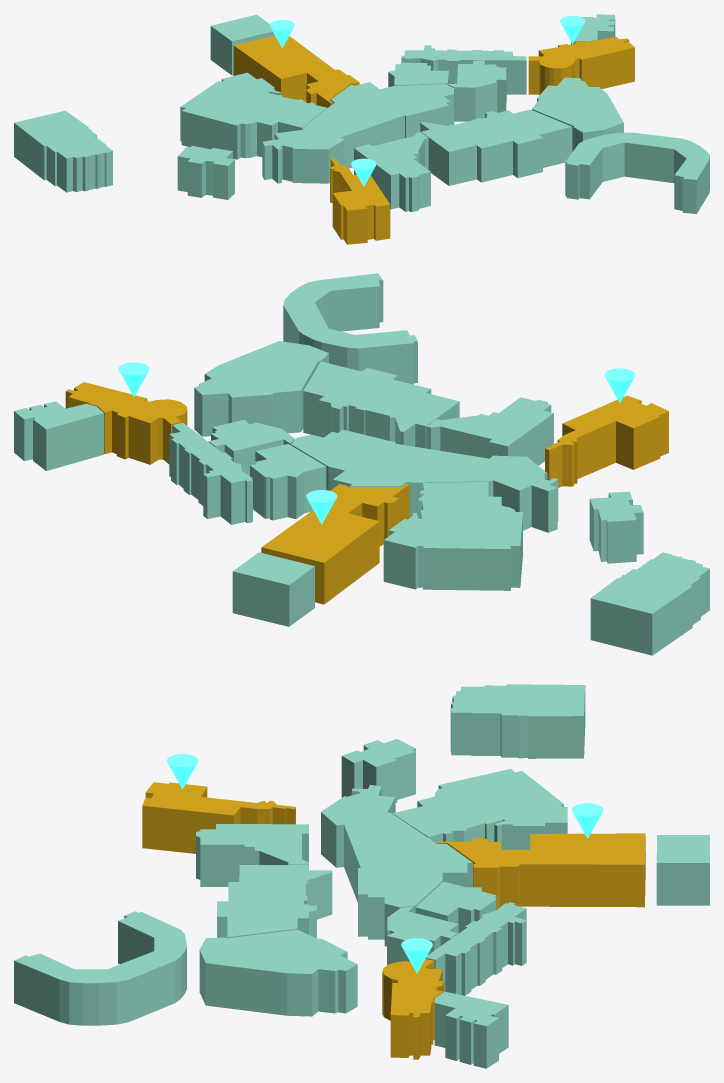
The model's file is sheridan.gltf.
3 views of the same model, one above another, from view 1: azimuth 30°, elevation 25°; view 2: azimuth 150°, elevation 25°; view 3: azimuth 270°, elevation 25° (orthographic). The views are drawn at different scales.
Visible parts, largest first — view 1: b-wing, c-wing, residence, animation-centre, athletics-centre, aa-wing, levy-centre, e-wing, g-wing, s-wing, student-centre, daycare-centre (+7 smaller); view 2: animation-centre, b-wing, residence, aa-wing, c-wing, athletics-centre, s-wing, g-wing, e-wing, levy-centre, h-wing, k-wing (+7 smaller); view 3: b-wing, residence, aa-wing, s-wing, athletics-centre, animation-centre, c-wing, g-wing, h-wing, e-wing, levy-centre, k-wing (+7 smaller).
Boxes of the visible parts, box(x1,y1,x2,y2) form: b-wing: box(262, 82, 454, 183); c-wing: box(420, 109, 572, 185); residence: box(565, 132, 709, 213); animation-centre: box(180, 72, 326, 159); athletics-centre: box(14, 110, 112, 192); aa-wing: box(233, 35, 359, 107); levy-centre: box(528, 36, 634, 95); e-wing: box(354, 132, 430, 211); g-wing: box(330, 158, 390, 244); s-wing: box(532, 77, 623, 151); student-centre: box(447, 60, 506, 121); daycare-centre: box(177, 145, 234, 199); animation-centre: box(383, 481, 522, 590); b-wing: box(291, 429, 558, 532); residence: box(283, 273, 417, 384); aa-wing: box(261, 483, 409, 604); c-wing: box(303, 361, 459, 448); athletics-centre: box(590, 552, 709, 655); s-wing: box(194, 341, 328, 436); g-wing: box(545, 395, 668, 487); e-wing: box(426, 397, 553, 465); levy-centre: box(65, 382, 187, 464); h-wing: box(169, 422, 252, 524); k-wing: box(14, 401, 103, 470); b-wing: box(321, 785, 472, 946); residence: box(14, 911, 186, 1025); aa-wing: box(437, 833, 645, 909); s-wing: box(199, 929, 357, 1016); athletics-centre: box(450, 684, 585, 758); animation-centre: box(392, 769, 567, 849); c-wing: box(217, 865, 332, 938); g-wing: box(142, 782, 295, 853); h-wing: box(425, 902, 526, 995); e-wing: box(196, 824, 308, 886); levy-centre: box(382, 959, 444, 1059); k-wing: box(434, 991, 508, 1068).
Size of the model in its own units: 173 by 19.11 by 148.
